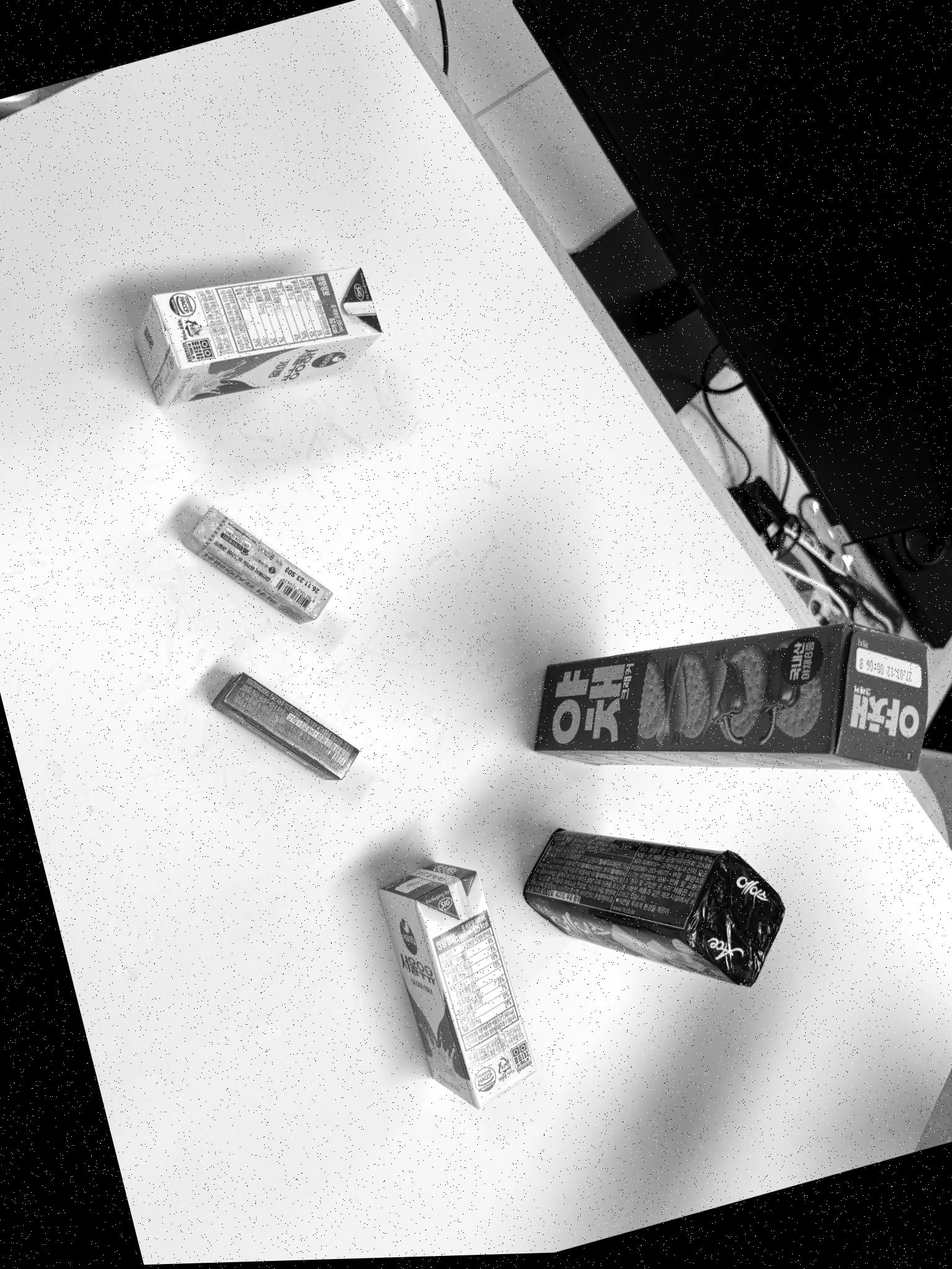cracker_ace: (524, 829, 784, 988)
cracker_vege: (535, 623, 928, 772)
gum_green: (212, 673, 358, 780)
gum_yellow: (184, 507, 332, 623)
milk_blue: (136, 265, 382, 406)
milk_green: (379, 863, 535, 1109)
